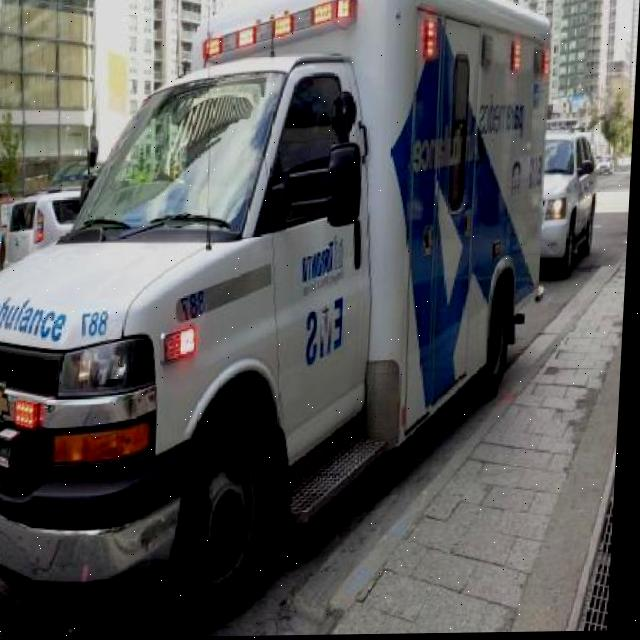emergency: (0, 0, 562, 606)
